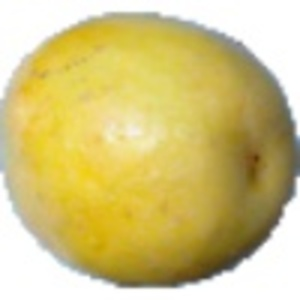maracujá: (1, 12, 300, 290)
